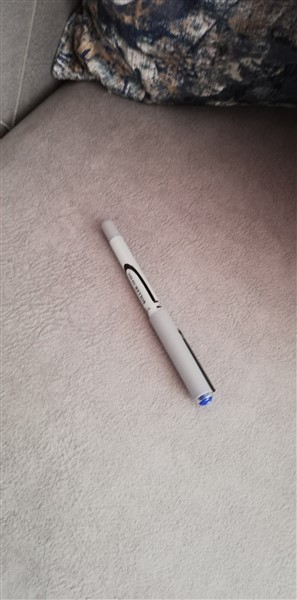pilot kalem: (97, 215, 221, 415)
